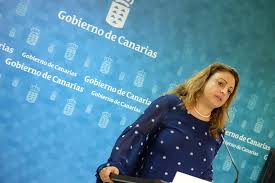person: (163, 56, 230, 141)
